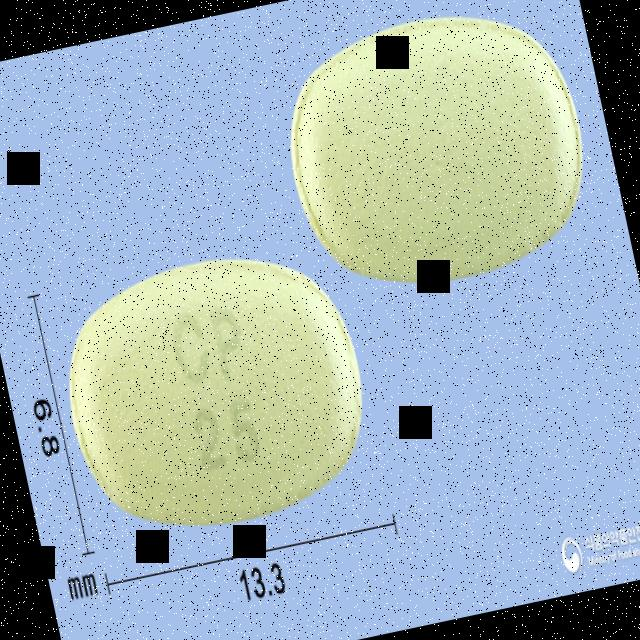Clarod: (42, 230, 388, 558)
